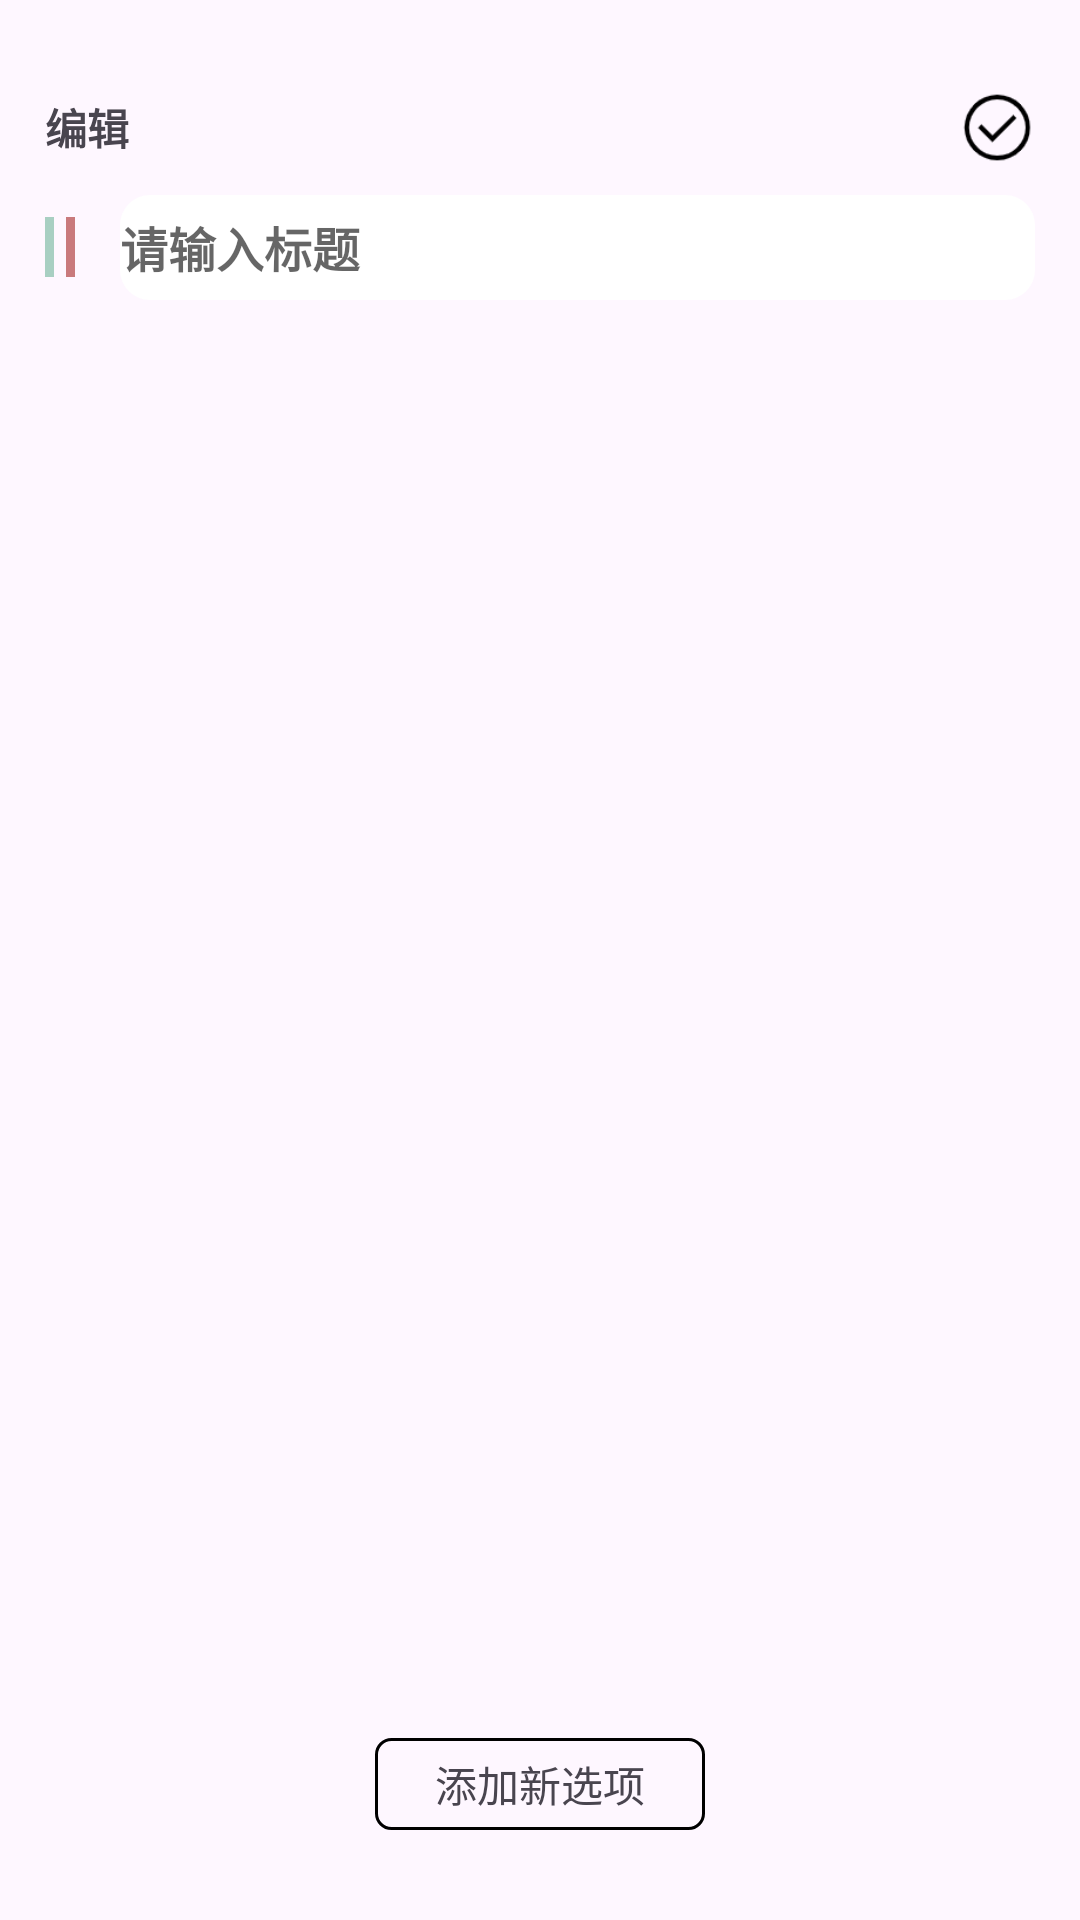

Icon click points for this 1080 × 1920 phone screenshot, format point (x, y):
yuan dui: point (997, 127)
